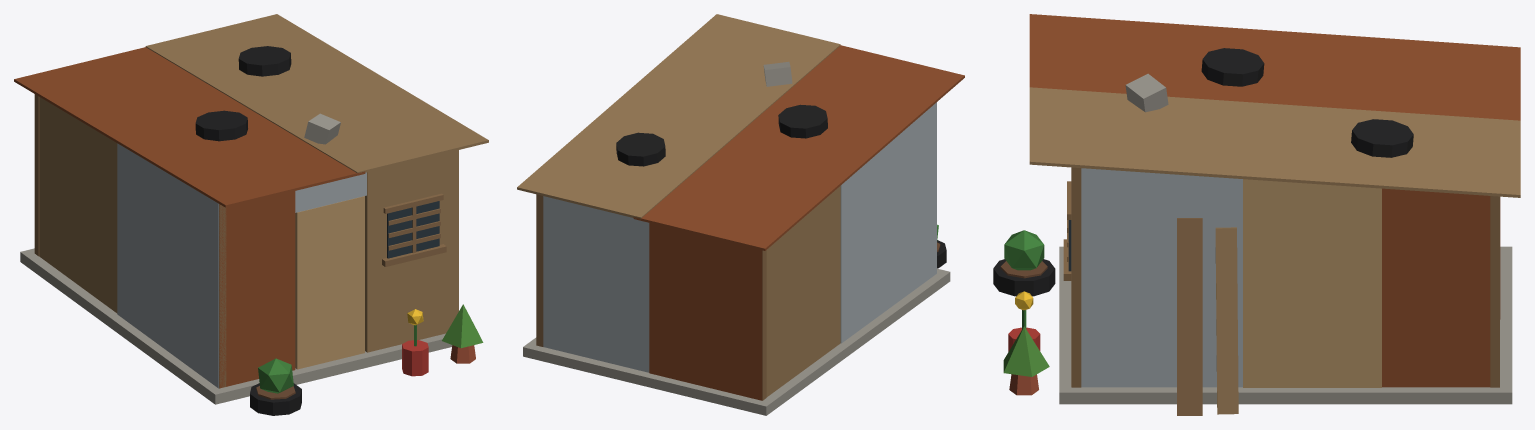
The model's file is BAY_I_TinShack_M.glb.
The picture shows the model from 3 angles, left to right: view 1: azimuth 30°, elevation 25°; view 2: azimuth 150°, elevation 25°; view 3: azimuth 270°, elevation 25°; orthographic projection. The views are drawn at different scales.
Parts seen in each view (by area): view 1: BAY_I_TinShack_M; view 2: BAY_I_TinShack_M; view 3: BAY_I_TinShack_M.
Boxes of the visible parts, <box> form: BAY_I_TinShack_M: <box>14,14,488,415</box>; BAY_I_TinShack_M: <box>517,14,964,415</box>; BAY_I_TinShack_M: <box>993,14,1520,415</box>.
Bounding box in the file's own units: 3.57 × 2.68 × 4.94.
1 material, 1 textured.
